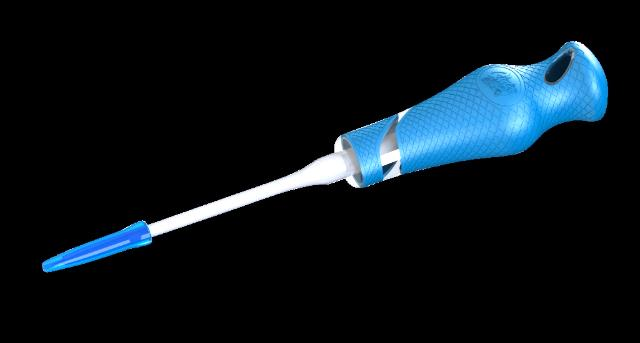ice pick: (43, 42, 607, 272)
